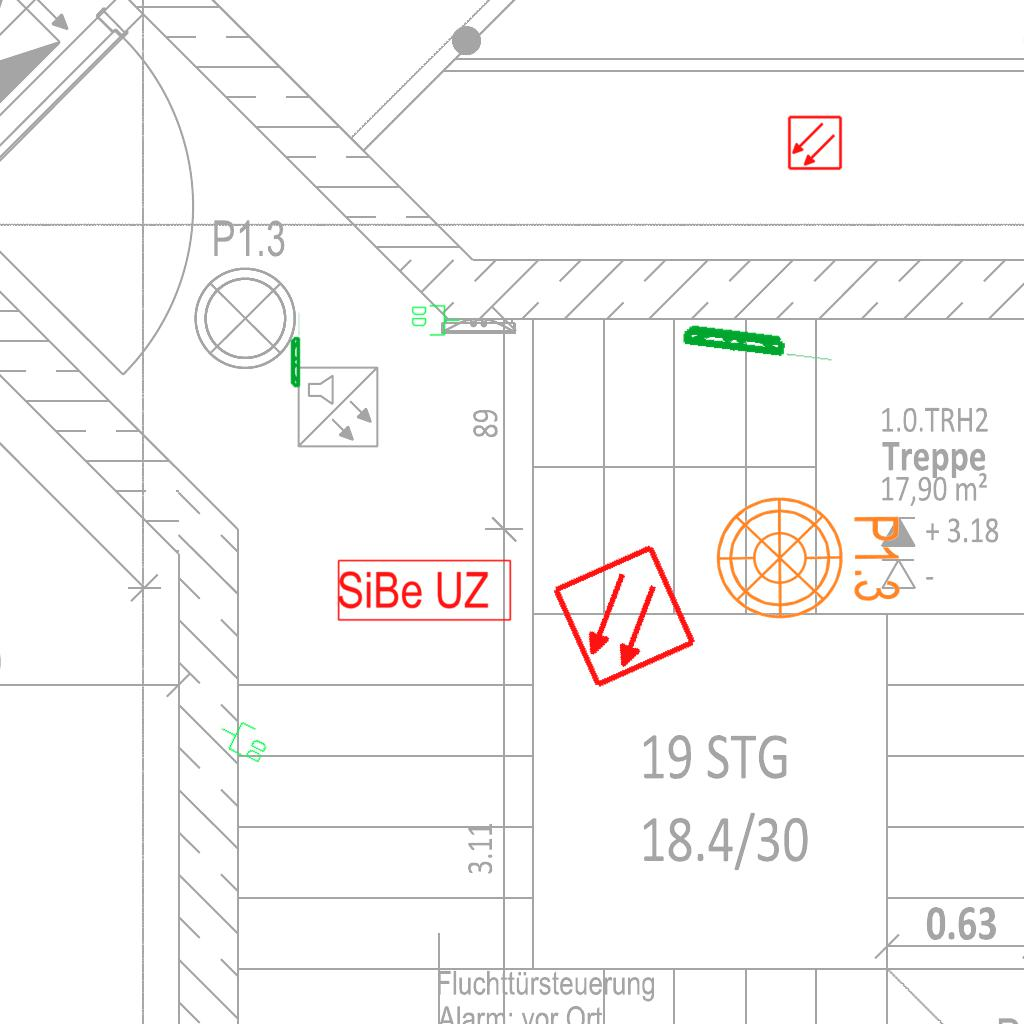Aufbaurundleuchte_LED_Treppenhaus: (713, 494, 918, 633)
Datenanschluss_zweifach: (213, 713, 274, 767), (410, 303, 461, 337)
RMO_Rauchmelder_optischer: (549, 541, 700, 692), (787, 115, 843, 171)
Sicherheitsleuchte_Wandeinbau: (679, 320, 840, 365), (289, 310, 301, 389)
Zentrale_Sicherheitsbeleuchtung: (336, 558, 514, 623)
